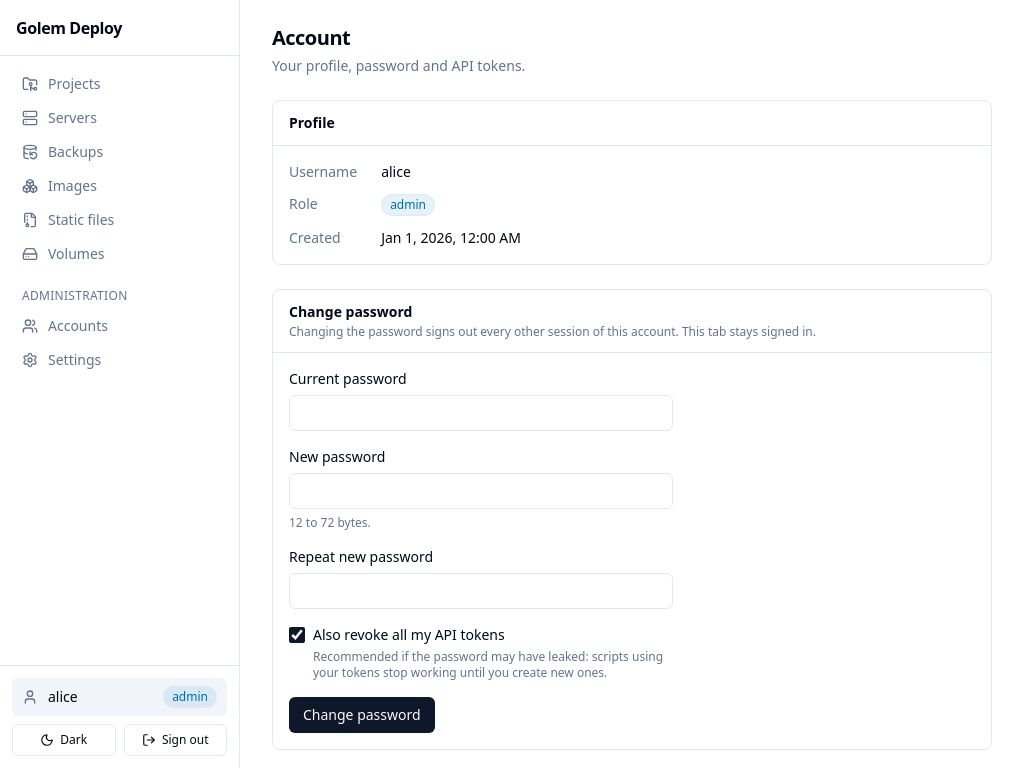
Test: account › revokes tokens on password change by default and says how many
Expected: the checkbox labelled "Also revoke all my API tokens" is checked, [289,627,305,643]
In the password field labelled "Current password": [481, 413] box [289,395,673,431], type "old password 123"
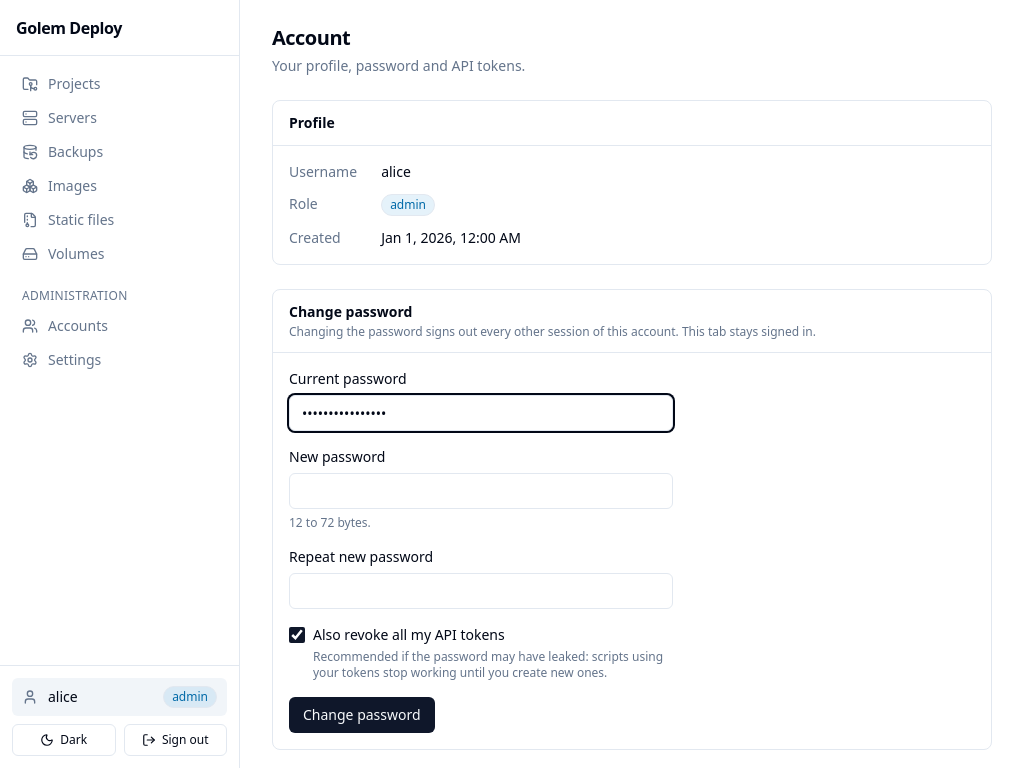
In the password field labelled "New password": [481, 491] box [289,473,673,509], type "new password 456"
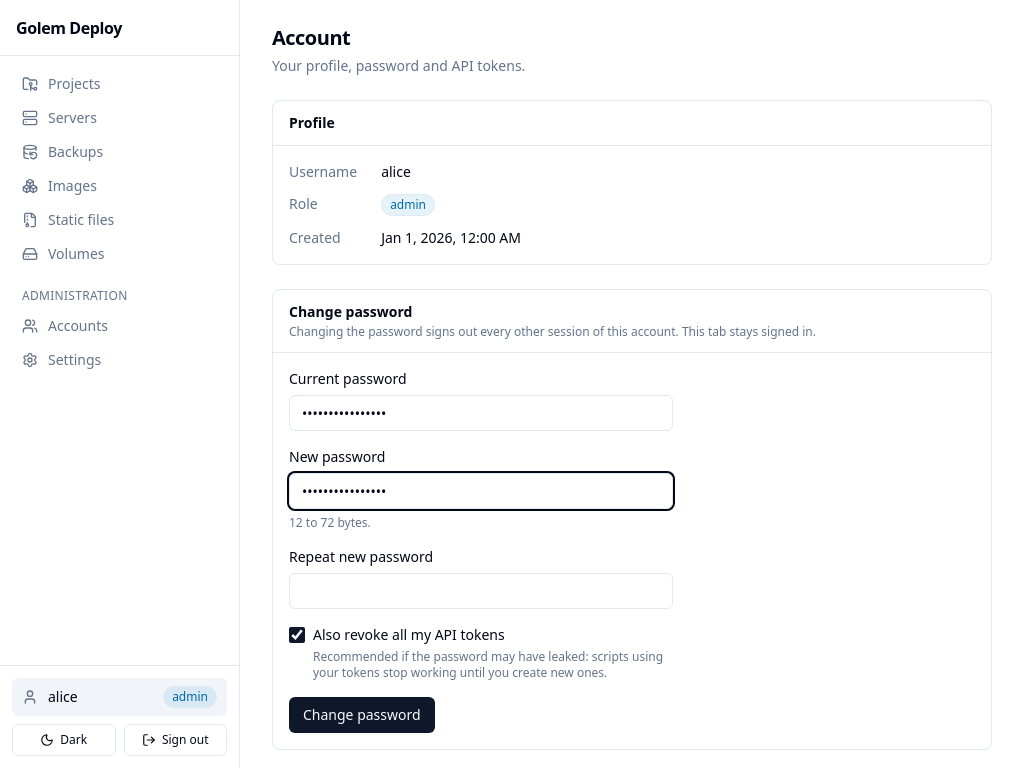
In the password field labelled "Repeat new password": [481, 591] box [289,573,673,609], type "new password 456"
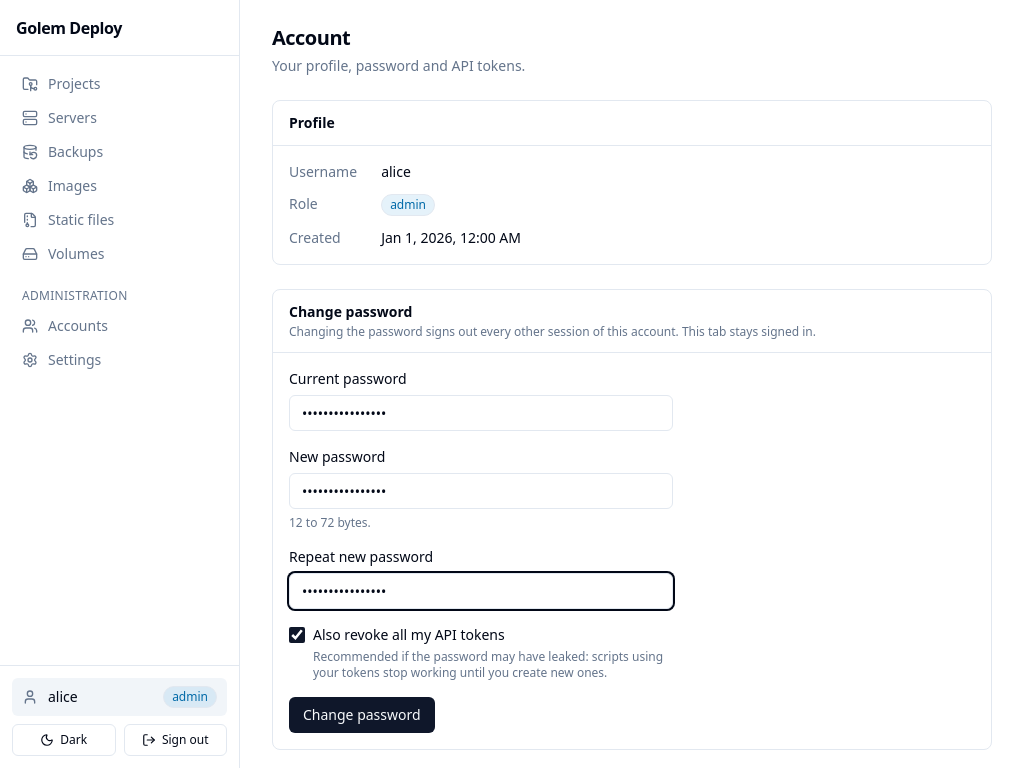
Click the button "Change password": [362, 715] box [289,697,435,733]
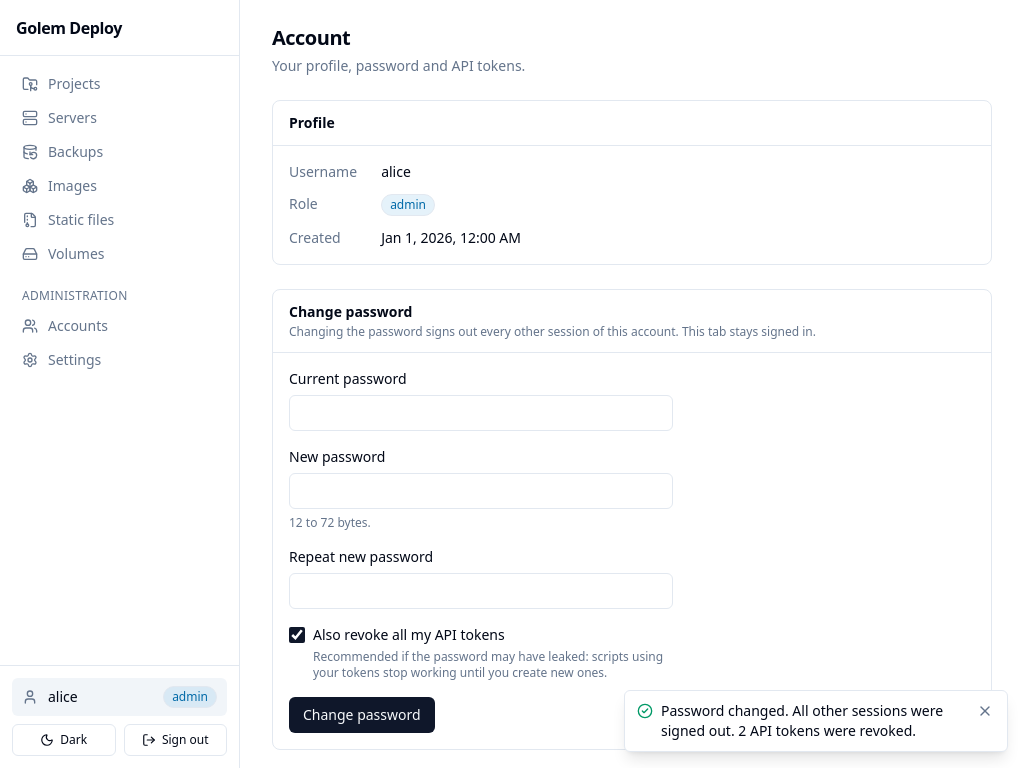
Result: the text "2 API tokens were revoked" is shown at [661,701,943,740]
